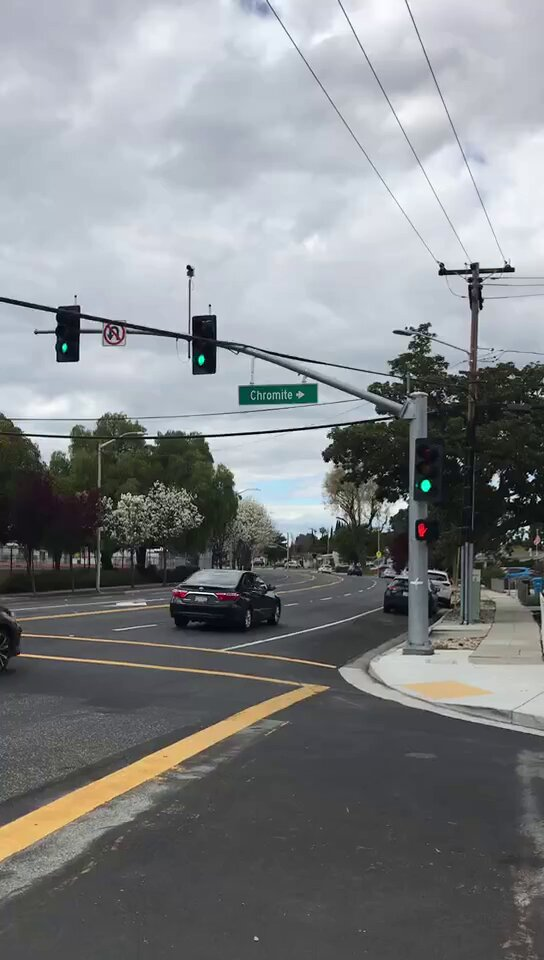green_light: (192, 316, 216, 375), (416, 441, 440, 499), (57, 307, 80, 361)
